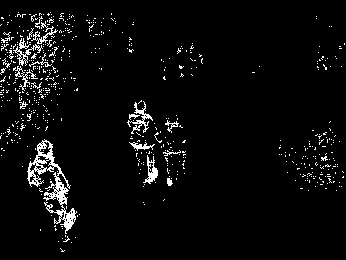person: (24, 139, 78, 245), (127, 97, 158, 186), (162, 113, 187, 187)
